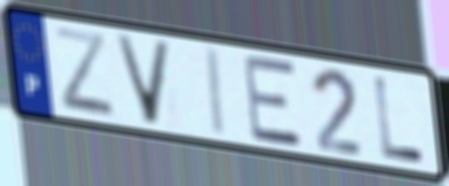2: (308, 65, 366, 160)
E: (240, 54, 307, 150)
I: (205, 45, 229, 140)
L: (370, 74, 427, 166)
V: (111, 31, 176, 129)
Z: (51, 23, 118, 121)
